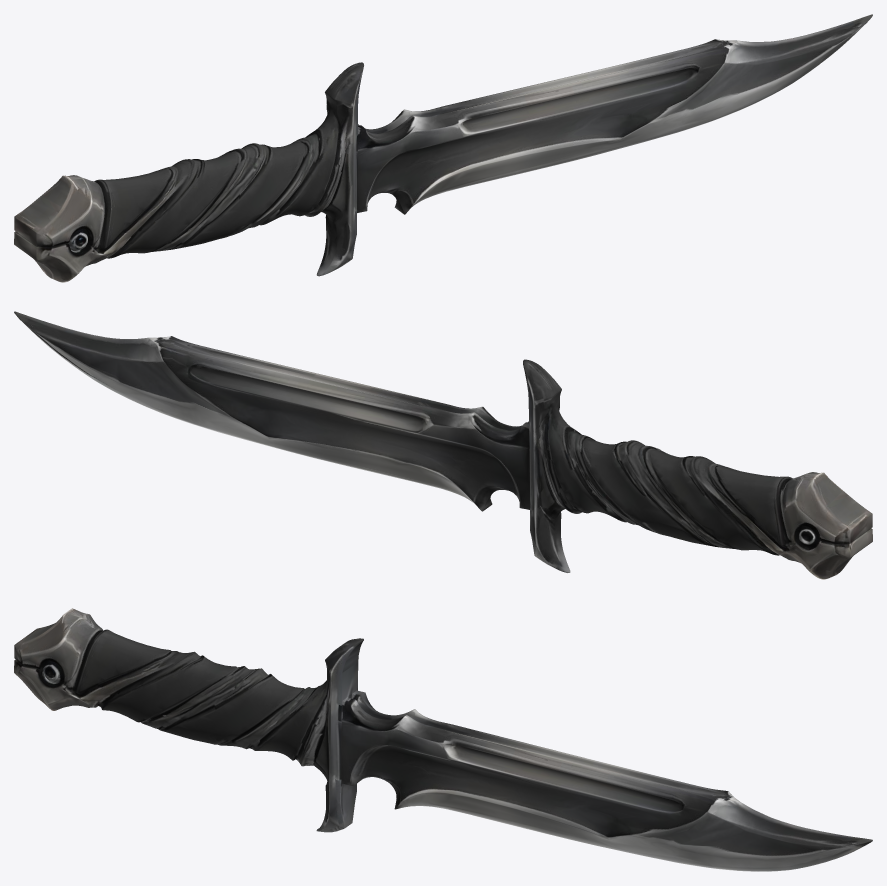
File: knife_bayonet.glb
3 views of the same model, one above another, from view 1: azimuth 30°, elevation 25°; view 2: azimuth 150°, elevation 25°; view 3: azimuth 330°, elevation 25° (orthographic).
Visible parts, largest first — view 1: knife_mesh; view 2: knife_mesh; view 3: knife_mesh.
Part boxes in pixels (x1,y1,x2,y2): knife_mesh: (14,14,872,282); knife_mesh: (14,311,872,579); knife_mesh: (14,608,872,871).
Size of the model in its own units: 1.2 by 0.2721 by 0.0756.
1 material, 1 textured.
